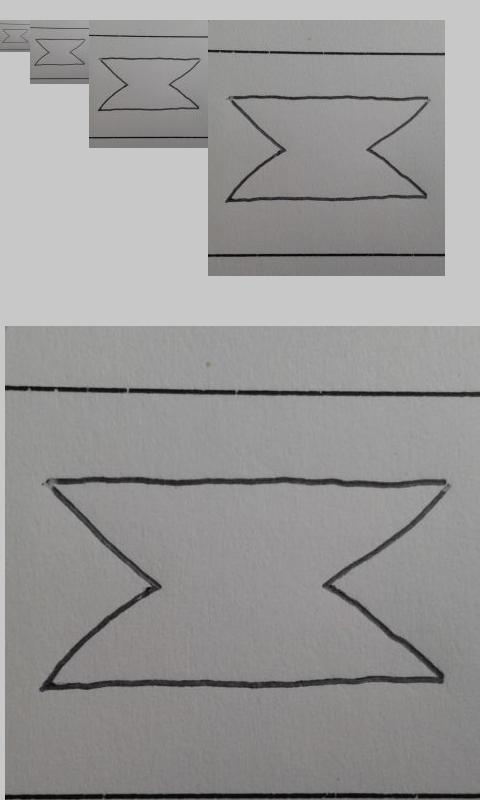edit_text: (42, 475, 447, 691), (227, 94, 430, 202), (97, 56, 200, 111), (34, 38, 86, 66), (2, 28, 28, 43)
